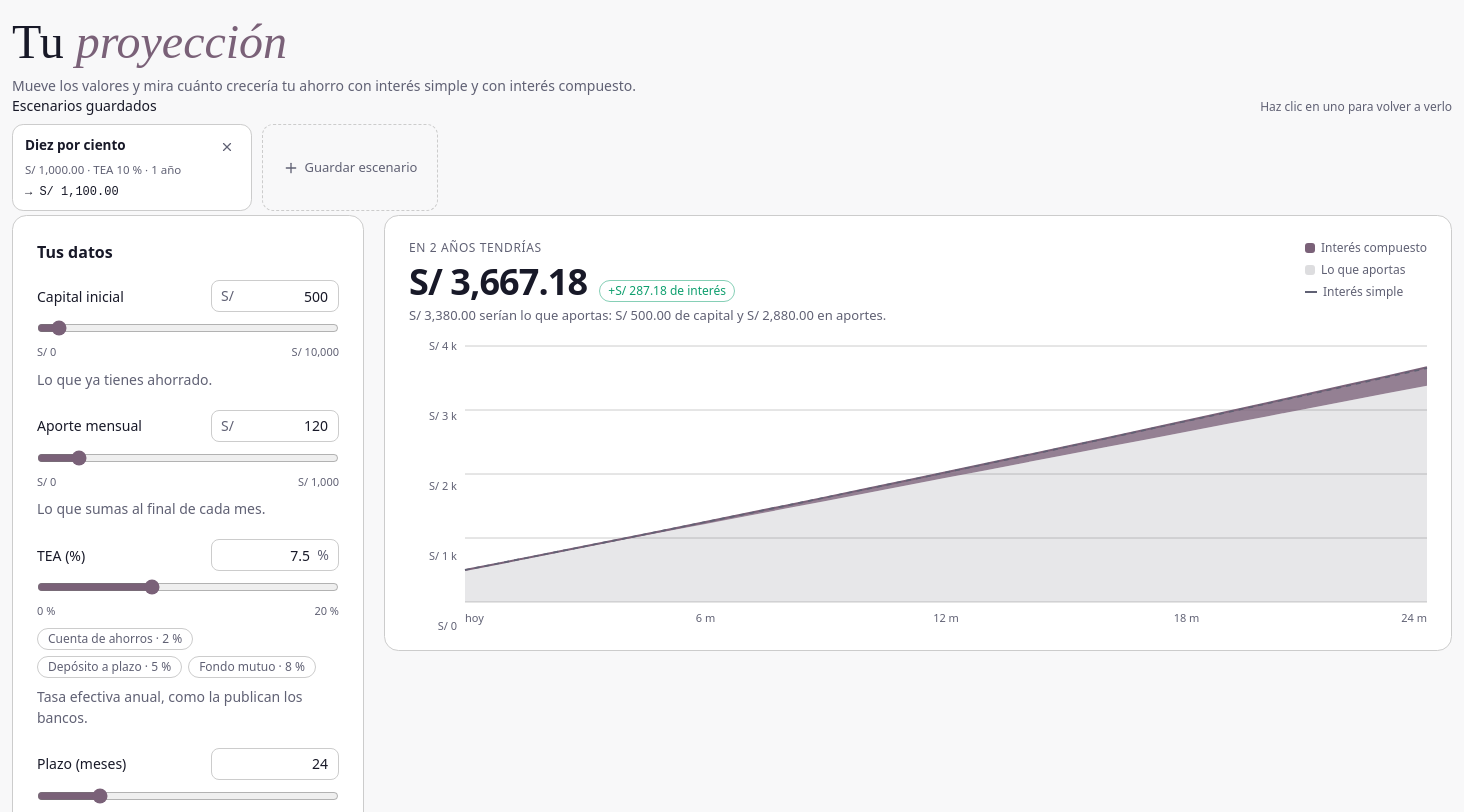
Test: ProjectionPage › un escenario guardado se puede volver a cargar en la calculadora
This screenshot has width=1464, height=812.
What coordinates should you click on to do the following:
click the button with aria-label "Usar Diez por ciento en la calculadora"
I would click on:
 (75, 145)
Its box is left=25, top=135, right=126, bottom=155.
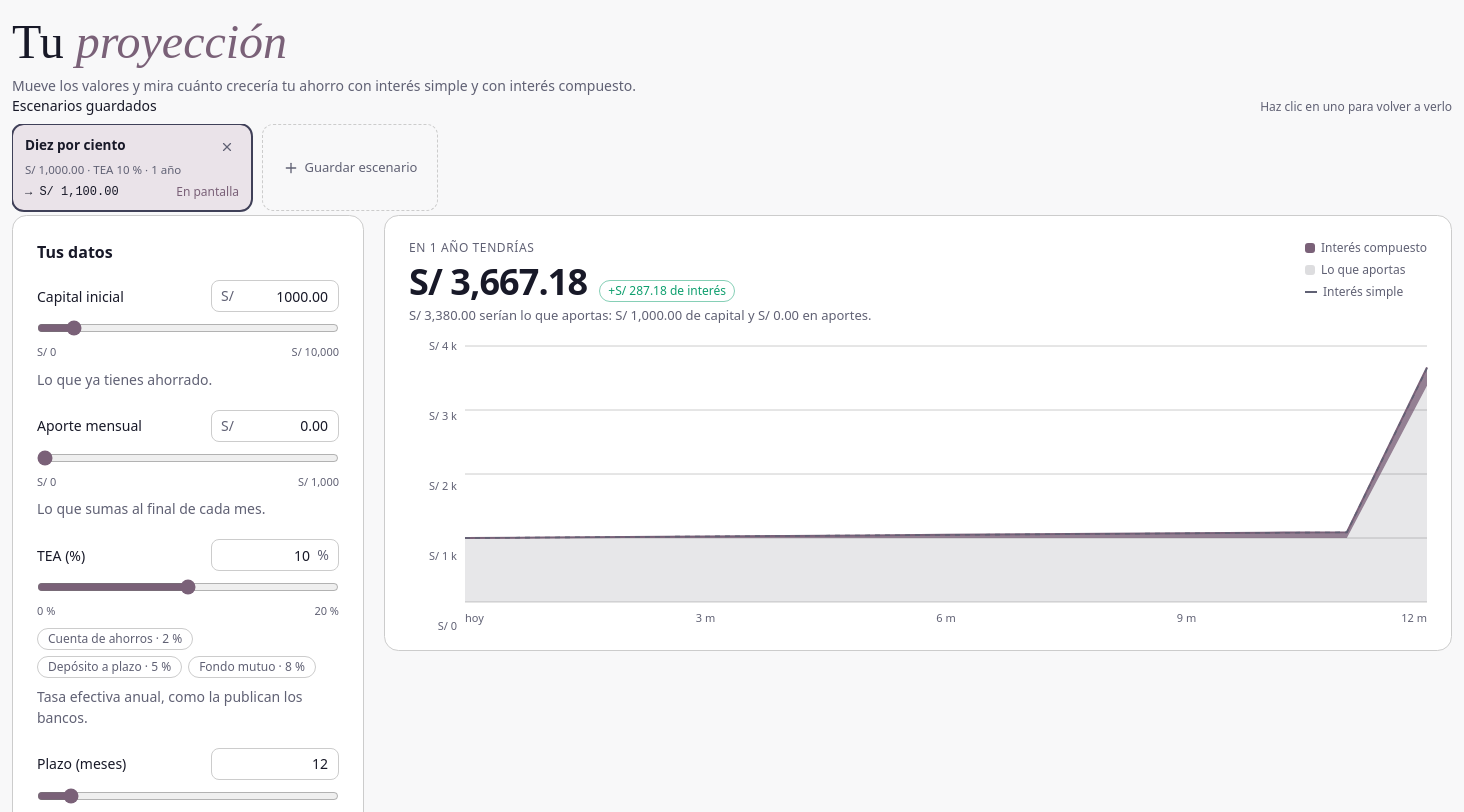
expect the field labelled "TEA (%)" holds "10": met, box left=211, top=539, right=339, bottom=571
expect the field labelled "Capital inicial" holds "1000.00": met, box left=211, top=280, right=339, bottom=312
expect the field labelled "Aporte mensual" holds "0.00": met, box left=211, top=410, right=339, bottom=442
